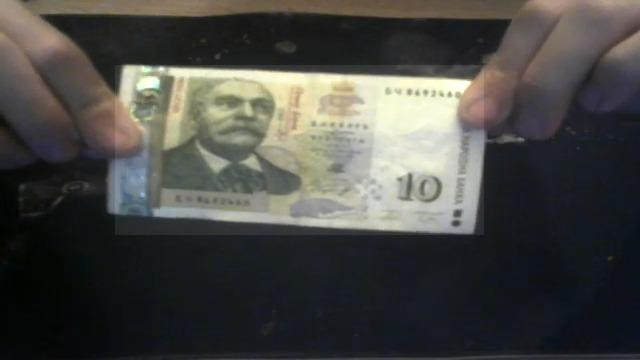10leva: (115, 65, 484, 235)
